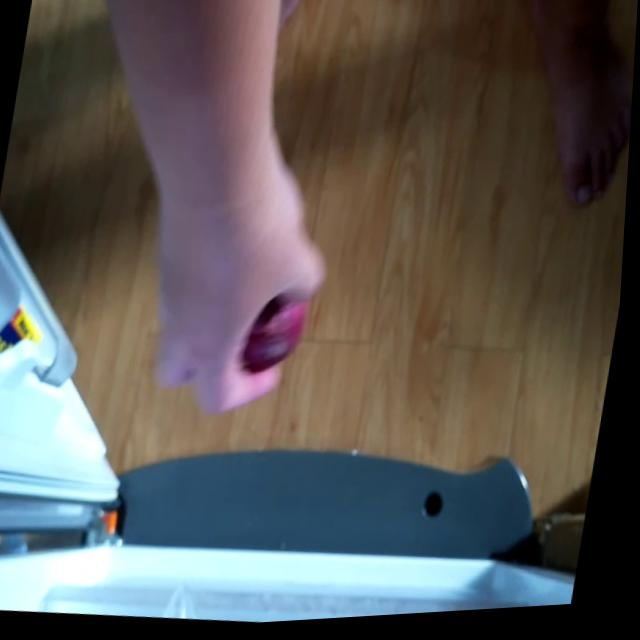onion: (242, 286, 319, 380)
